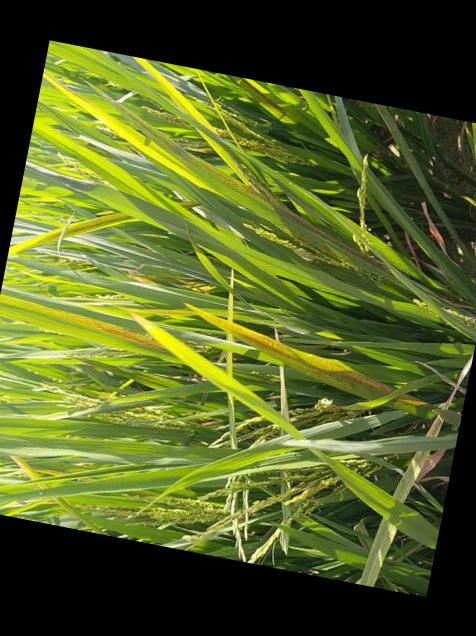Leaf Streak: (178, 149, 388, 270), (187, 302, 393, 399), (0, 289, 167, 351)
